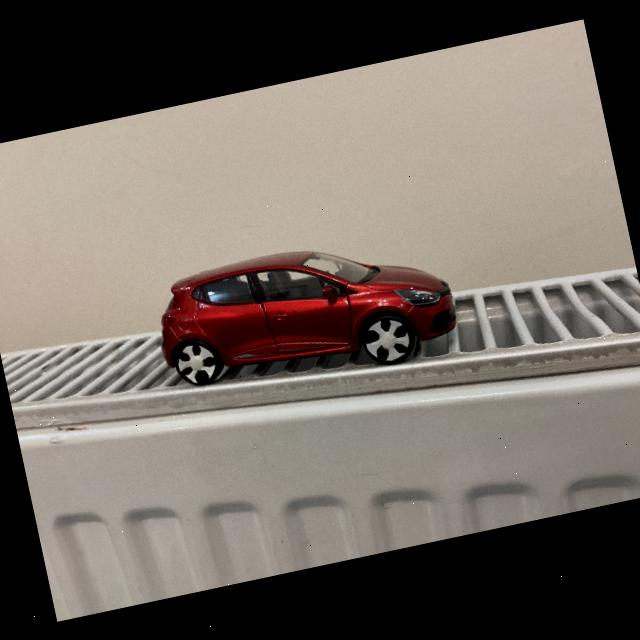Yanlis_Jant: (361, 314, 414, 366), (172, 338, 220, 387)
